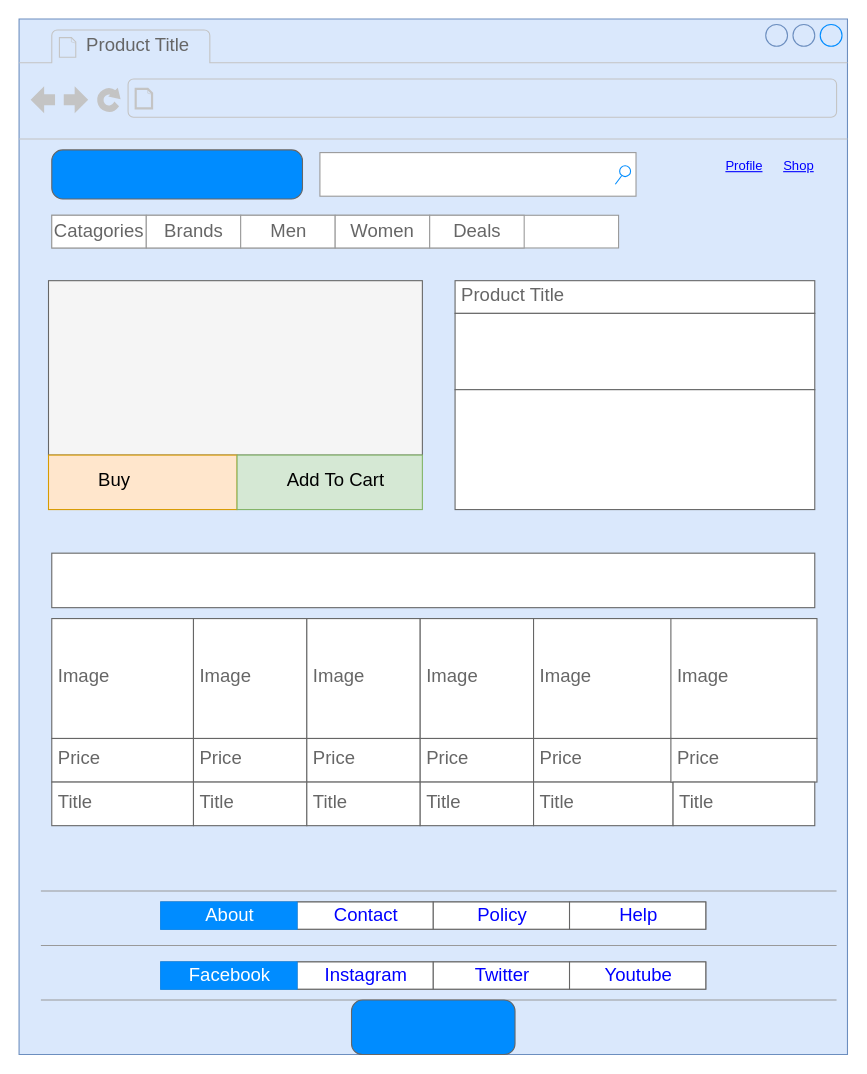
Some shapes in this 867 by 1074 pixel diagram are drawn without their labels. The shapes that lost their labels are listed below. From the top down, each one's box as (x1, y1, x2, y2) in pixels, then its label:
(160, 83, 433, 113): https://desicart.000webhostapp.com/product_details.html
(51, 149, 302, 199): DesiCart Logo
(319, 152, 636, 196): Search
(47, 280, 422, 455): Product Image
(454, 312, 815, 390): Product Description
(454, 389, 815, 510): Product Specifications
(51, 552, 815, 608): Similar Products
(350, 999, 515, 1055): DesiCart @2020
